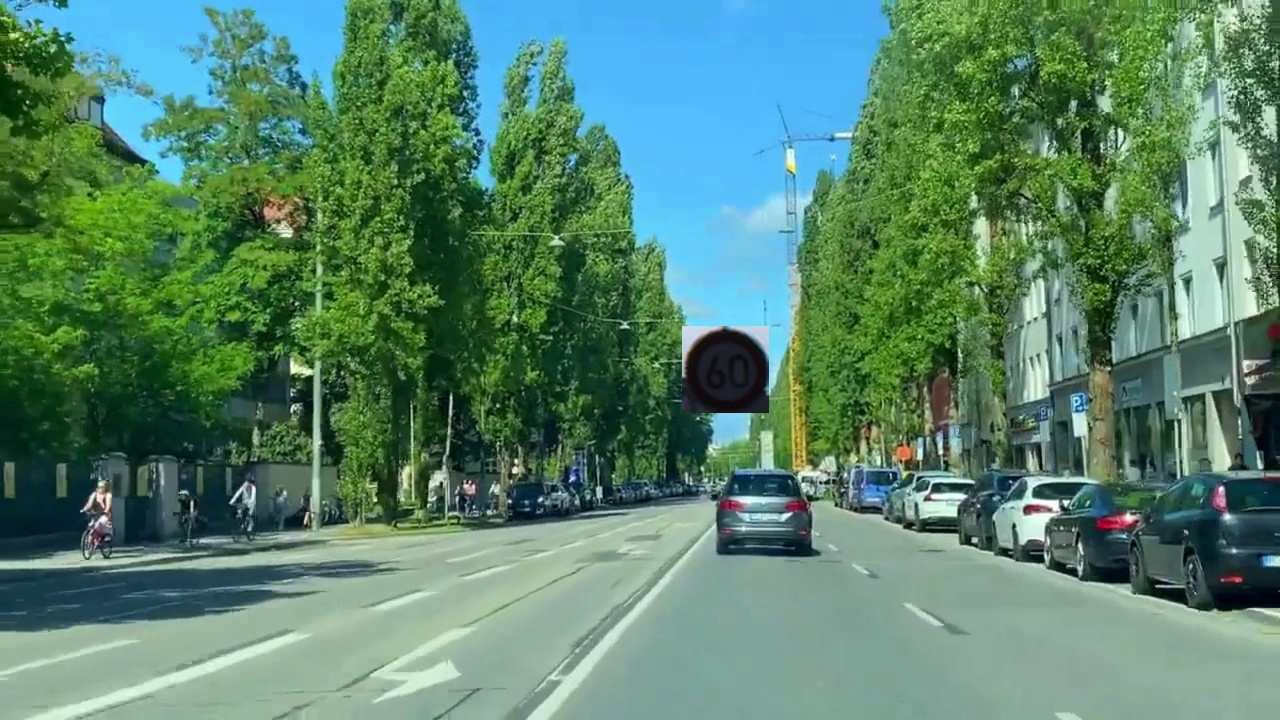Speed 60: (682, 326, 769, 413)
